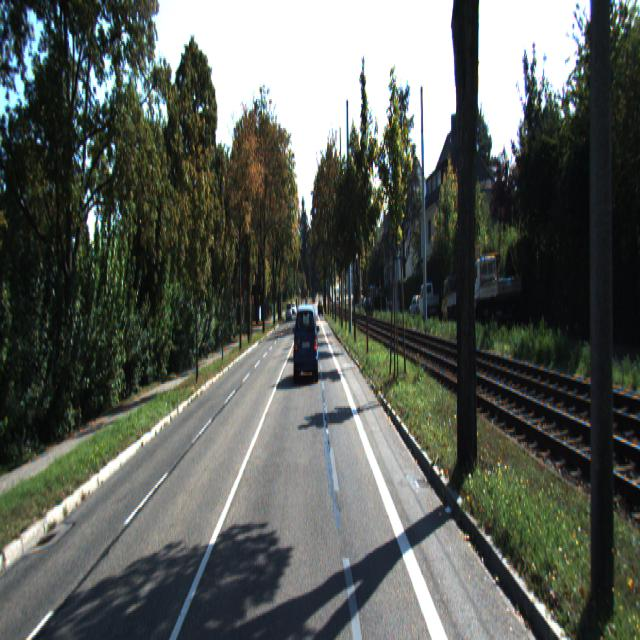Car: (472, 245, 523, 328), (293, 302, 319, 386), (441, 273, 472, 326), (418, 281, 439, 318)
